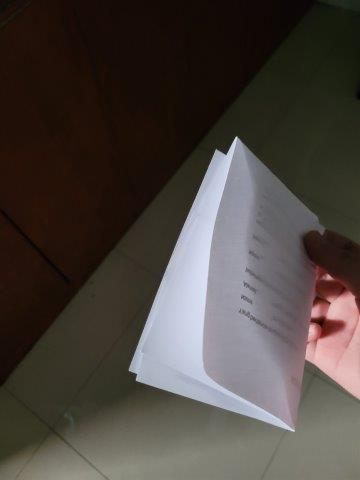kertas: (132, 138, 324, 435)
